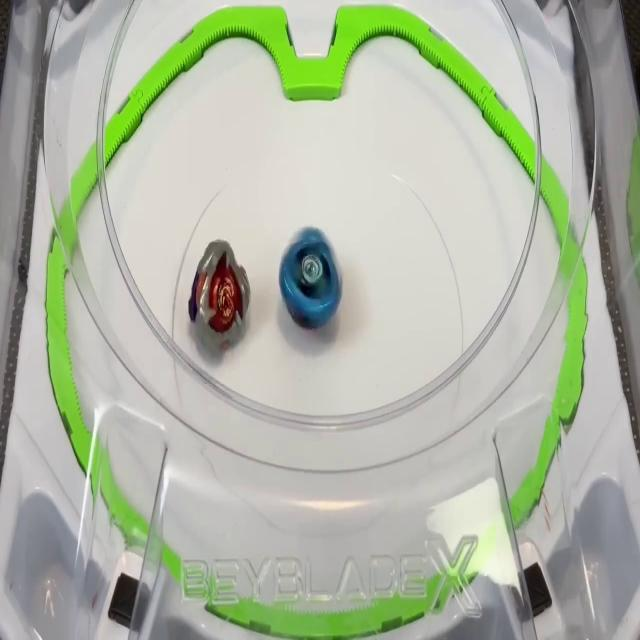Beyblade: (188, 238, 252, 352), (278, 226, 342, 332)
